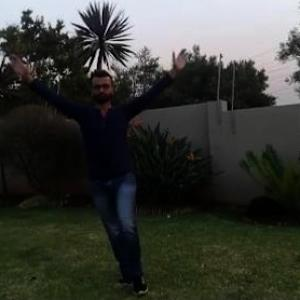takeoff: (8, 50, 188, 299)
